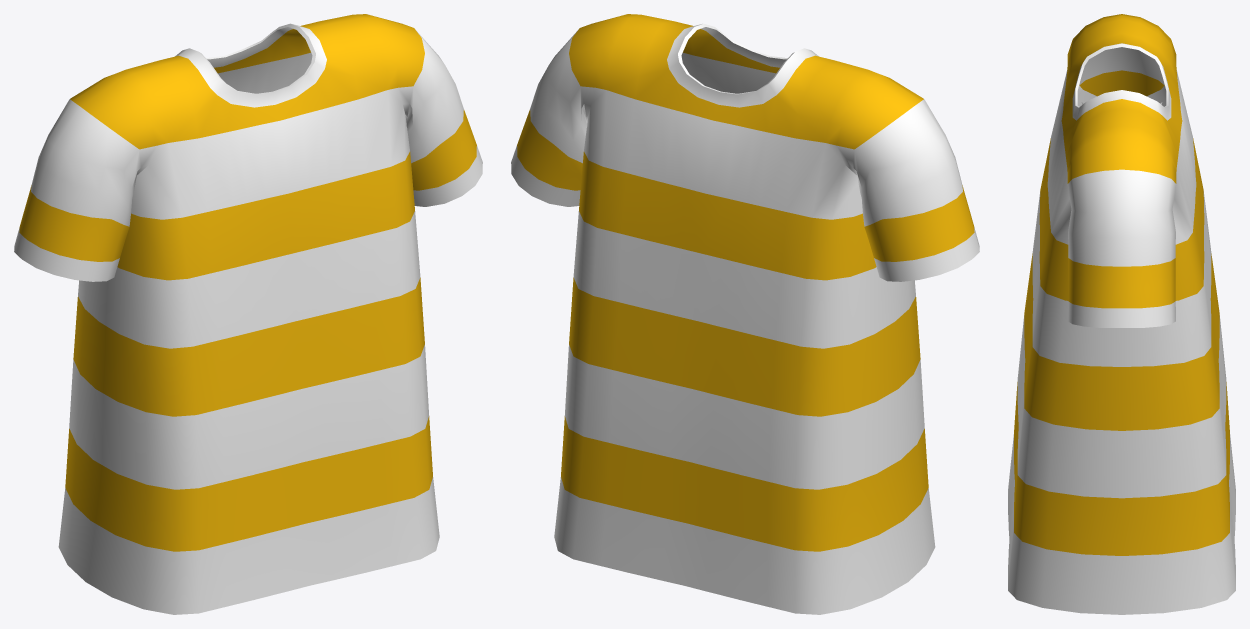
Rendered from t_shirt.fbx.
3 renders of one model, left to right at view 1: azimuth 30°, elevation 25°; view 2: azimuth 150°, elevation 25°; view 3: azimuth 270°, elevation 25°, orthographic. The views are drawn at different scales.
Visible parts, largest first — view 1: Circle.1790; view 2: Circle.1790; view 3: Circle.1790.
Part boxes in pixels (x1=…): Circle.1790: x1=14, y1=14, x2=482, y2=614; Circle.1790: x1=511, y1=14, x2=979, y2=614; Circle.1790: x1=1008, y1=14, x2=1235, y2=614.
Size of the model in its own units: 186 by 198 by 86.18.
1 material, 1 textured.
